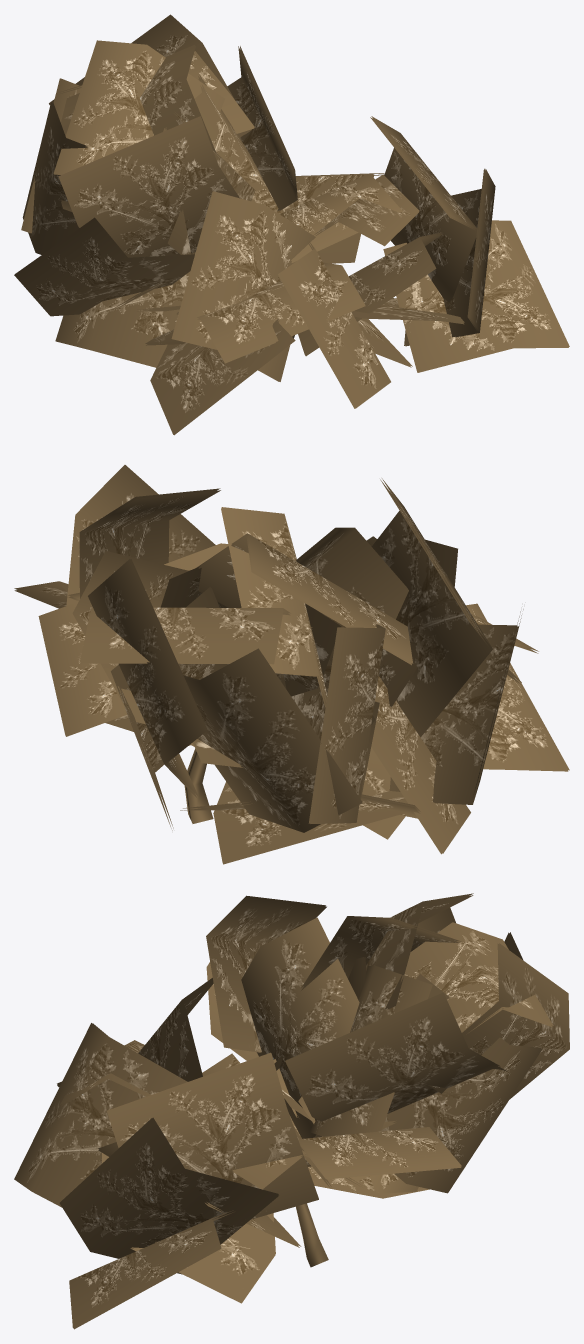
File: DG_Bush_2.fbx
The picture shows the model from 3 angles, top to bottom: view 1: azimuth 30°, elevation 25°; view 2: azimuth 150°, elevation 25°; view 3: azimuth 270°, elevation 25°; orthographic projection. The views are drawn at different scales.
Visible parts, largest first — view 1: DG_Bush_2; view 2: DG_Bush_2; view 3: DG_Bush_2.
Part boxes in pixels (box(x1,y1,x2,y2)): DG_Bush_2: box(14, 14, 569, 435); DG_Bush_2: box(14, 465, 569, 864); DG_Bush_2: box(14, 893, 569, 1329).
Bounding box in the file's own units: 1824 × 1145 × 1824.
